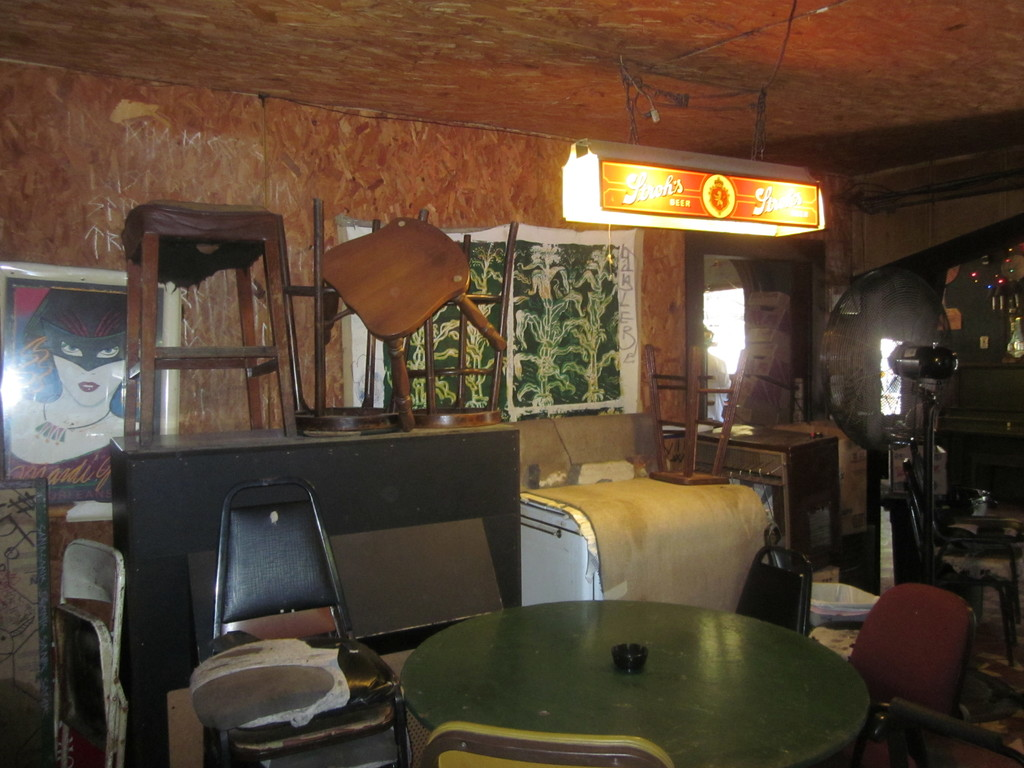Chair: (204, 469, 401, 765), (817, 579, 976, 767), (898, 458, 1023, 668), (49, 540, 131, 767), (419, 722, 675, 767), (737, 542, 809, 641)
